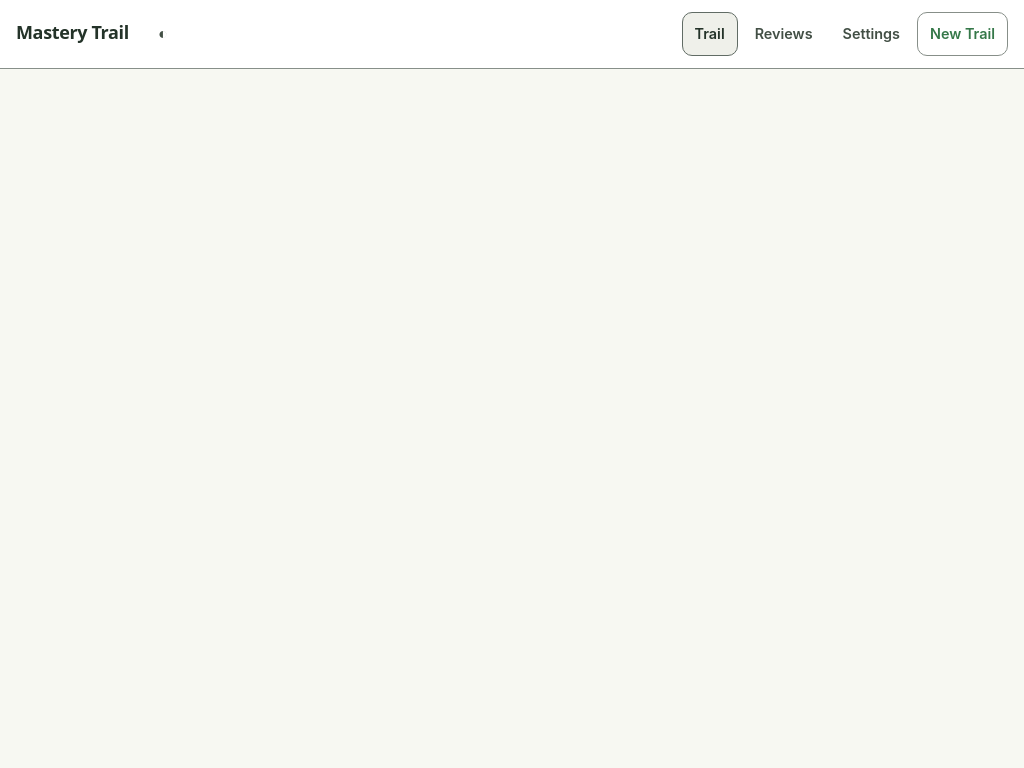
Test: AppShell › opens the controlled theme menu from the header and closes it after selection
Click the button named "Open theme switcher" at (163, 34), box [141,12,185,56]
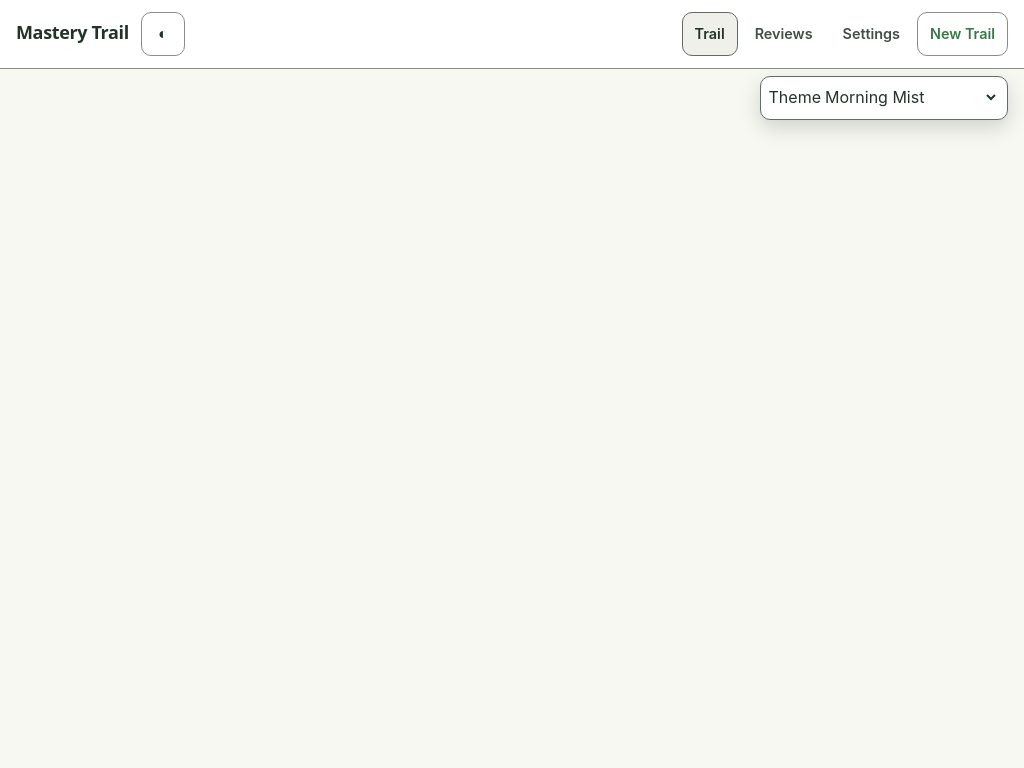
Expected: the button named "Open theme switcher" is expanded, [141,12,185,56]
Expected: the dropdown labelled "Theme" is shown
Select "Mission Workshop" in the dropdown labelled "Theme" at (910, 97), box [821,86,999,108]
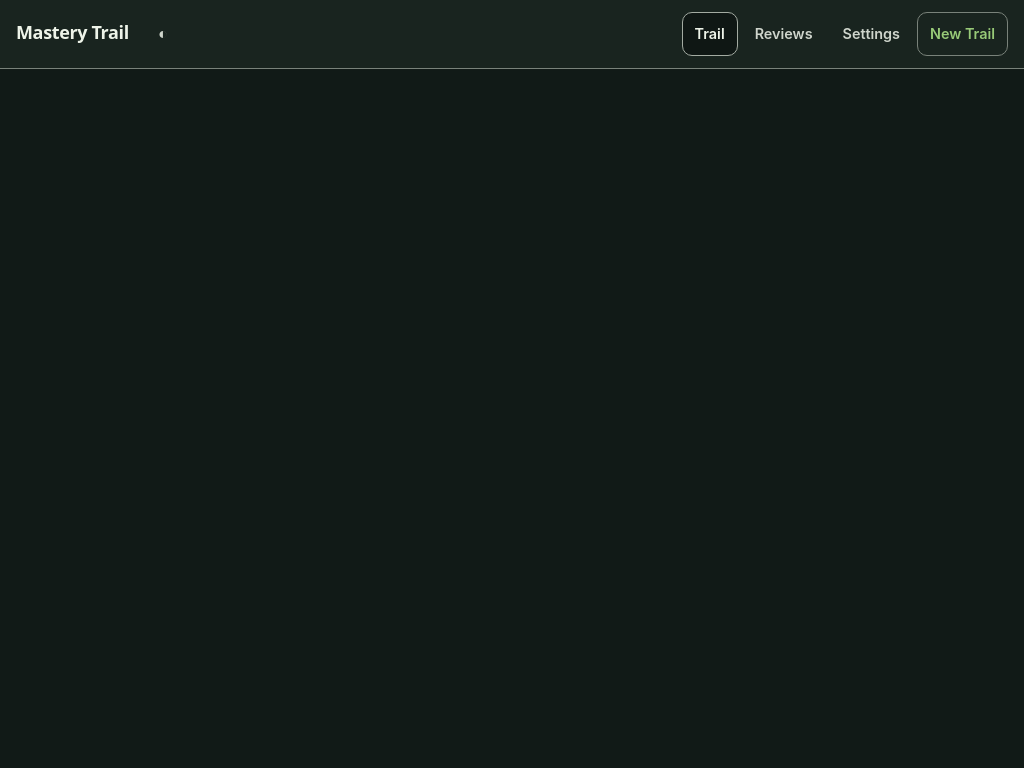
Expected: the button named "Open theme switcher" is collapsed, [141,12,185,56]
